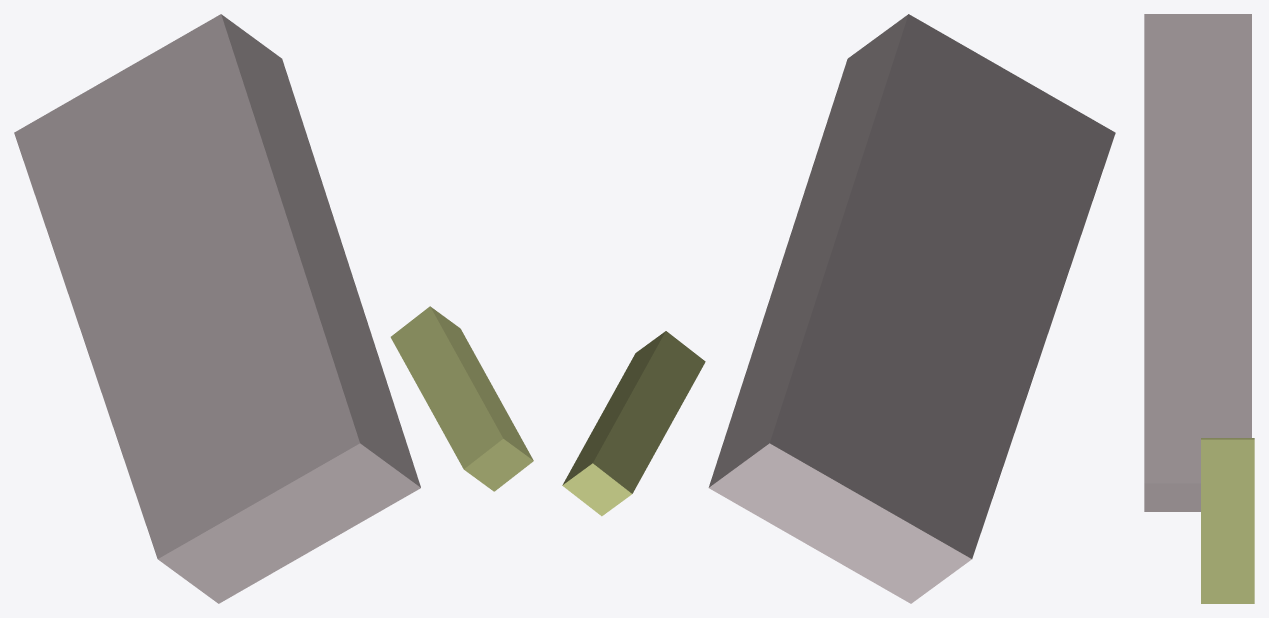
The picture shows the model from 3 angles, left to right: view 1: azimuth 30°, elevation 25°; view 2: azimuth 150°, elevation 25°; view 3: azimuth 270°, elevation 25°; orthographic projection. The views are drawn at different scales.
Parts seen in each view (by area): view 1: 0_1_0_0_1_0_1_2; view 2: 0_1_0_0_1_0_1_2; view 3: 0_1_0_0_1_0_1_2.
Part boxes in pixels (bbox=[...]): 0_1_0_0_1_0_1_2: bbox=[14, 14, 533, 603]; 0_1_0_0_1_0_1_2: bbox=[562, 14, 1115, 603]; 0_1_0_0_1_0_1_2: bbox=[1144, 14, 1254, 603].
Bounding box in the file's own units: 55.67 × 57.41 × 12.3.
